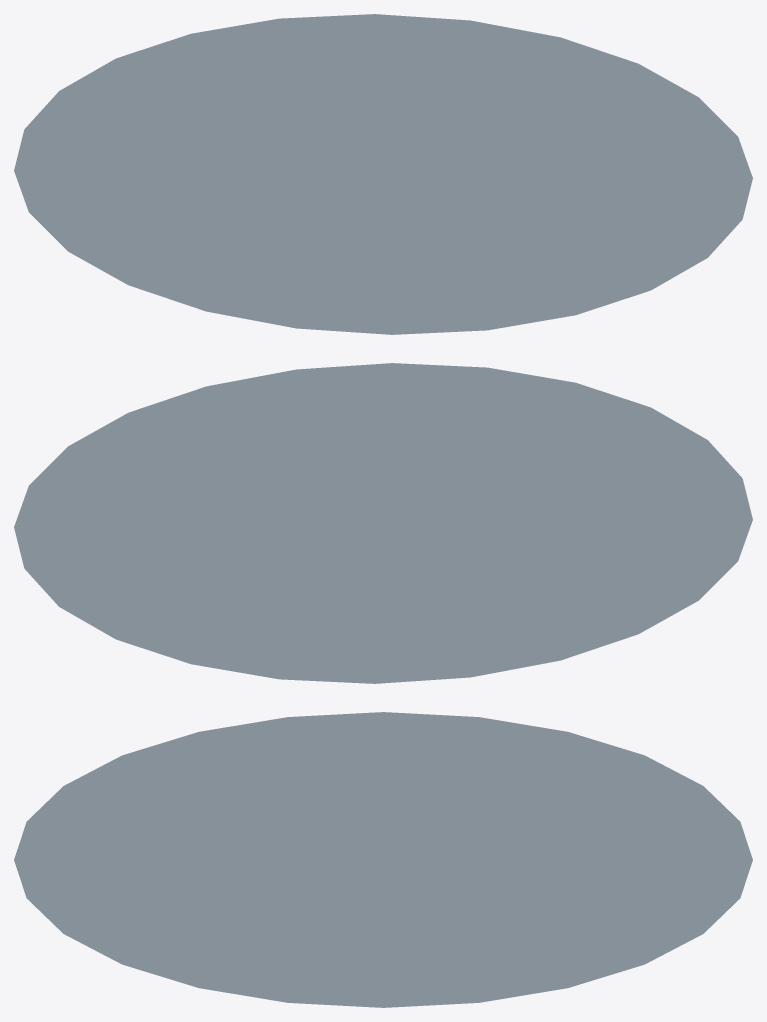
File: boat_scene_water.fbx
3 views of the same model, one above another, from view 1: azimuth 30°, elevation 25°; view 2: azimuth 150°, elevation 25°; view 3: azimuth 270°, elevation 25° (orthographic). The views are drawn at different scales.
Parts seen in each view (by area): view 1: polySurface272; view 2: polySurface272; view 3: polySurface272.
Part boxes in pixels (x1,y1,x2,y2): polySurface272: [14, 14, 752, 334]; polySurface272: [14, 363, 752, 683]; polySurface272: [14, 712, 752, 1007].
Bounding box in the file's own units: 1248 × 0 × 1317.
